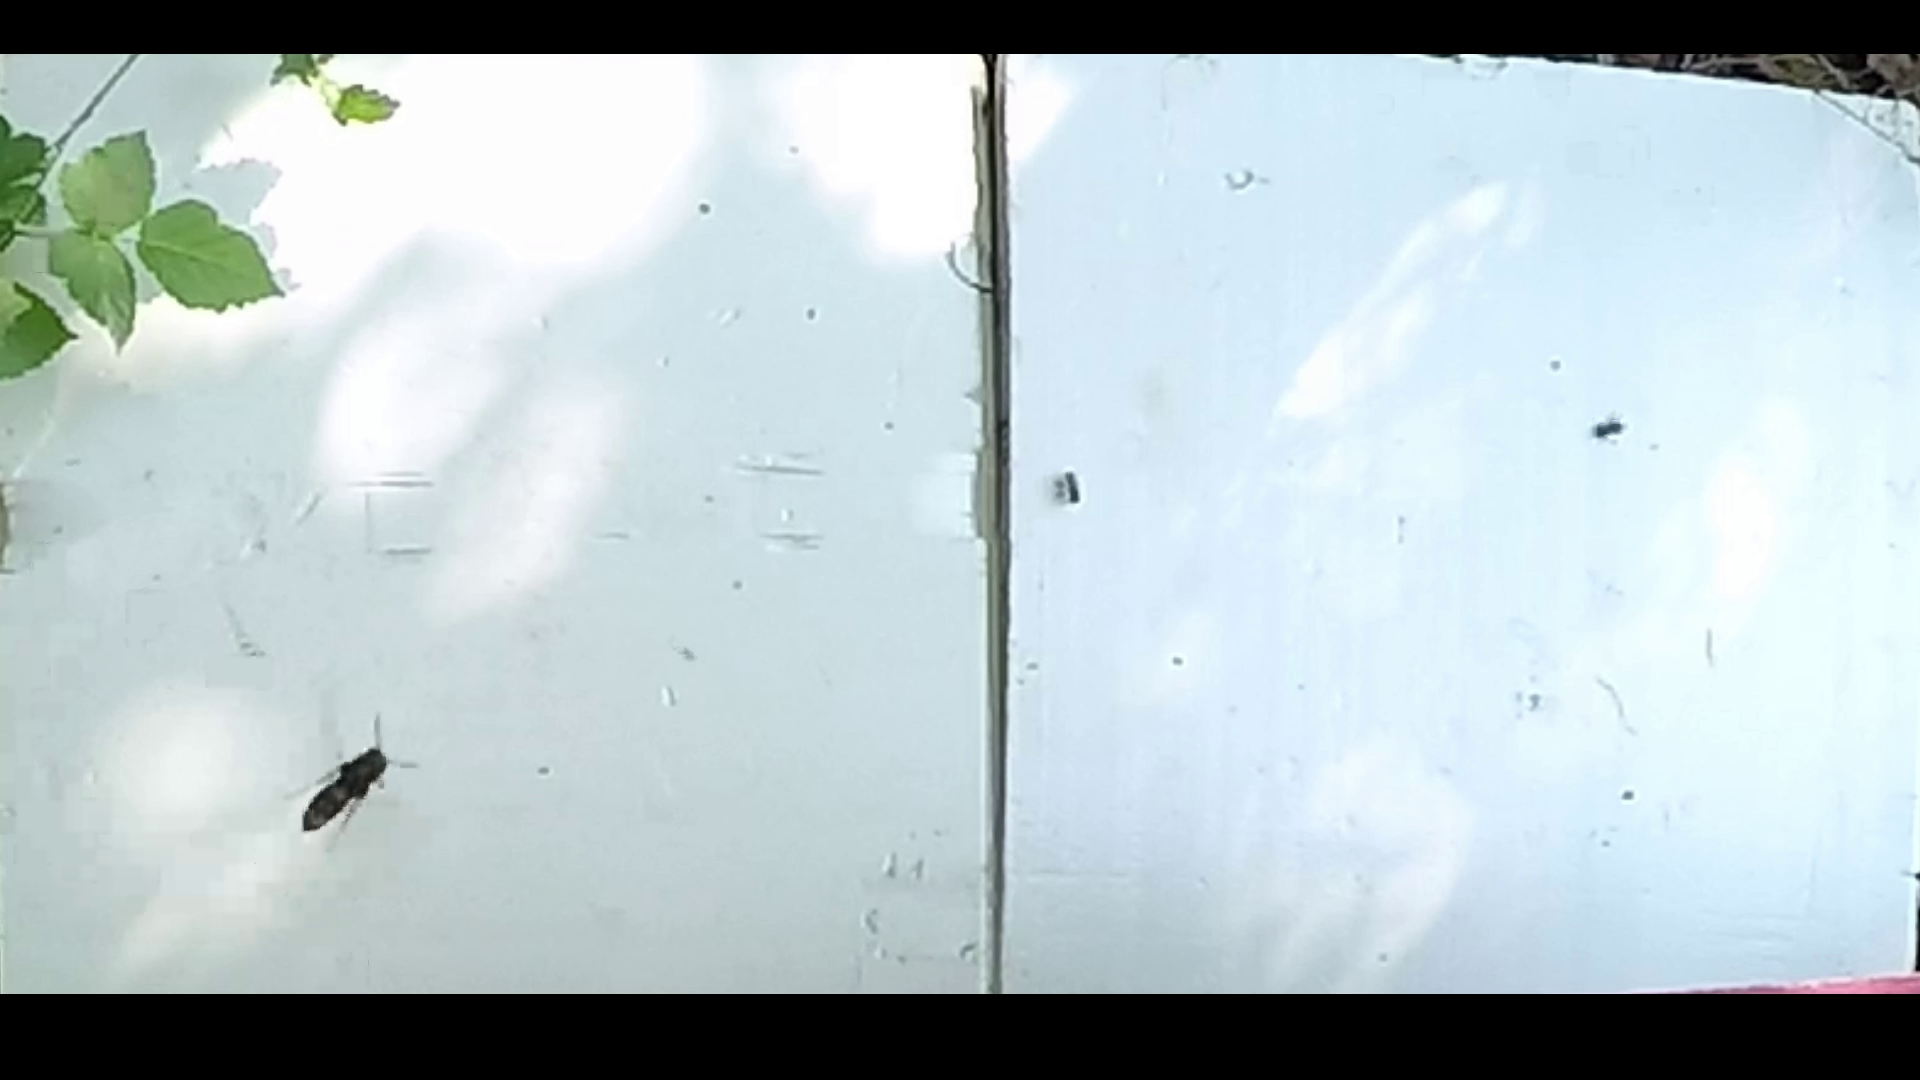Asian_hornets: (274, 698, 435, 855)
